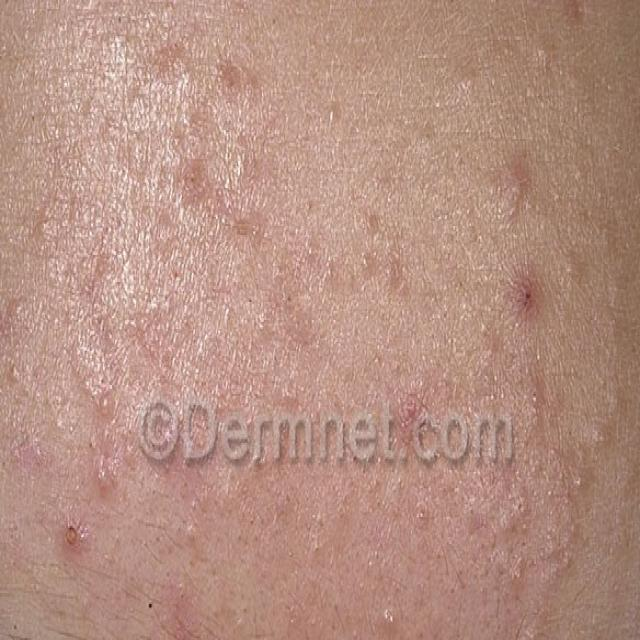Acne: (22, 25, 316, 285), (399, 490, 640, 640), (478, 136, 628, 375), (416, 0, 607, 122), (78, 366, 131, 500), (141, 555, 218, 640), (47, 509, 99, 570), (372, 580, 405, 640)
